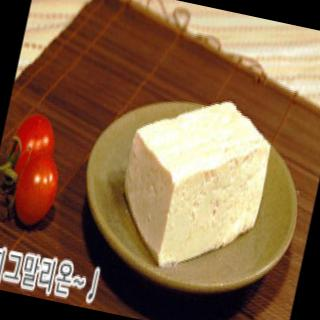Tahu: (122, 102, 271, 268)
